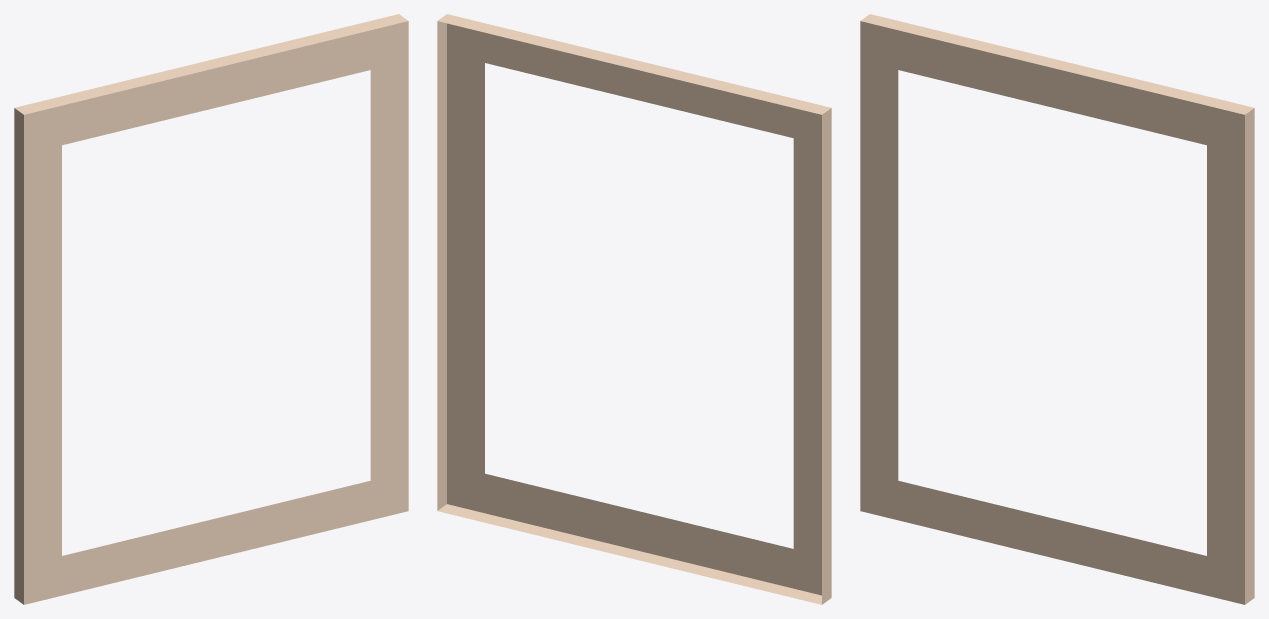
The model's file is original-5.obj.
3 renders of one model, left to right at view 1: azimuth 30°, elevation 25°; view 2: azimuth 150°, elevation 25°; view 3: azimuth 330°, elevation 25°, orthographic.
Visible parts, largest first — view 1: #ID32; view 2: #ID32; view 3: #ID32.
Boxes of the visible parts, x1=… form: #ID32: x1=14, y1=14, x2=408, y2=604; #ID32: x1=437, y1=14, x2=831, y2=604; #ID32: x1=860, y1=14, x2=1254, y2=604.
Size of the model in its own units: 0.3336 by 0.4062 by 0.0145.
